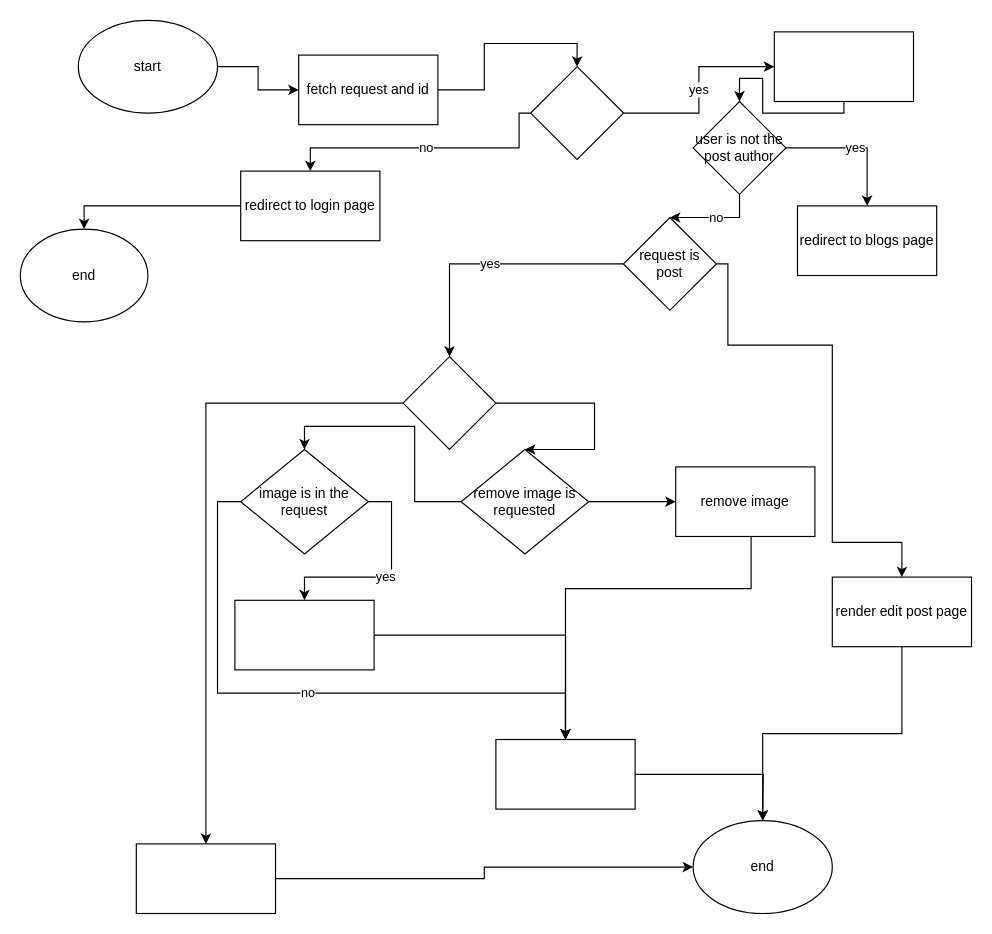
The diagram is 992 pixels wide and 934 high, and some of its shapes have lost their labels. Each missing label, with the centre of its shape:
"change post's image" goes at (x=304, y=634).
"get the number of unread messages" goes at (x=843, y=66).
"logged in" goes at (x=577, y=113).
"post has title and contetn" goes at (x=449, y=402).
"redirect to post detail page" goes at (x=205, y=878).
"save post" goes at (x=565, y=773).
